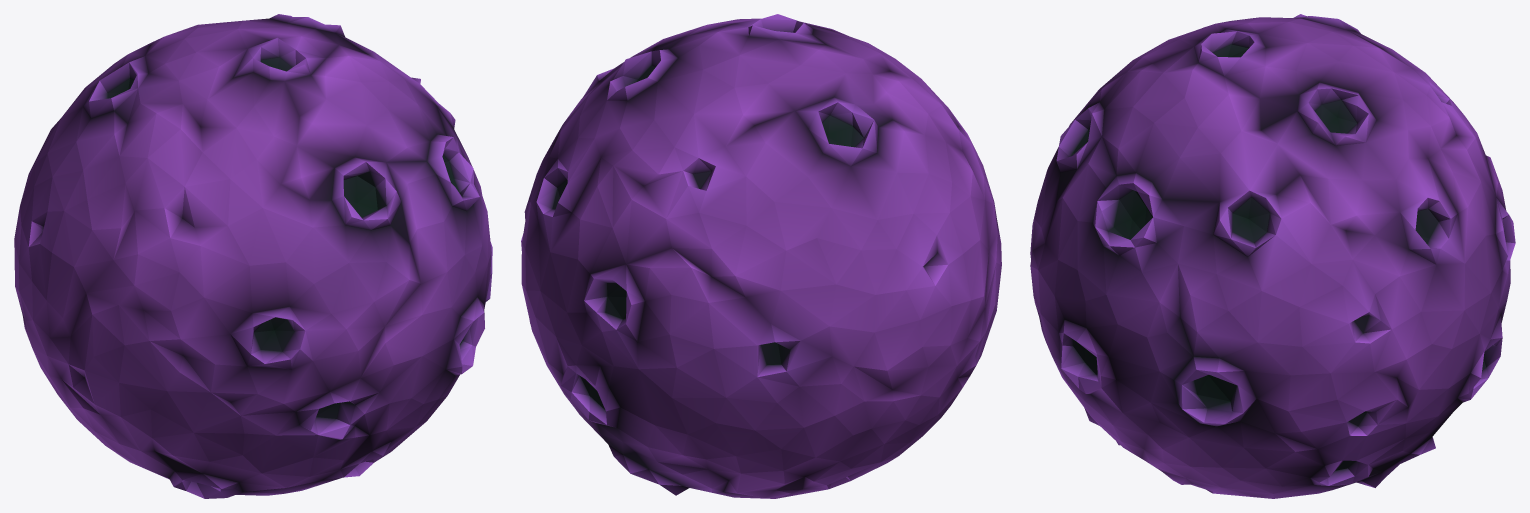
Rendered from moon41.fbx.
3 views of the same model, side by side, from view 1: azimuth 30°, elevation 25°; view 2: azimuth 150°, elevation 25°; view 3: azimuth 270°, elevation 25° (orthographic).
Parts seen in each view (by area): view 1: attribblur1; view 2: attribblur1; view 3: attribblur1.
Part boxes in pixels (x1,y1,x2,y2): attribblur1: [14, 14, 492, 498]; attribblur1: [521, 14, 1001, 498]; attribblur1: [1030, 14, 1515, 498].
Size of the model in its own units: 1.01 by 1.01 by 1.01.
